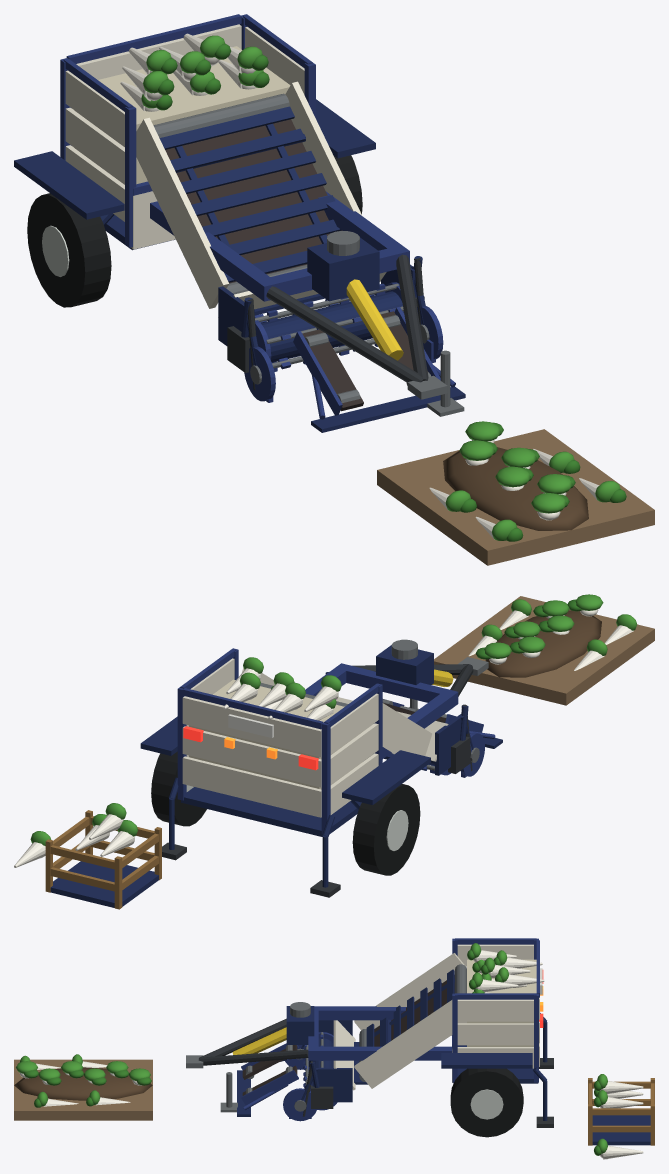
Rendered from daikon_harvester.glb.
The picture shows the model from 3 angles, top to bottom: view 1: azimuth 30°, elevation 25°; view 2: azimuth 150°, elevation 25°; view 3: azimuth 270°, elevation 25°; orthographic projection. The views are drawn at different scales.
Visible parts, largest first — view 1: DaikonBody, DaikonProps, DaikonPickup; view 2: DaikonBody, DaikonProps; view 3: DaikonBody, DaikonProps, DaikonPickup.
Boxes of the visible parts, x1,y1,x2,y2 form: DaikonBody: [14, 14, 465, 432]; DaikonProps: [377, 421, 654, 565]; DaikonPickup: [254, 282, 404, 371]; DaikonBody: [140, 639, 502, 897]; DaikonProps: [14, 594, 654, 909]; DaikonBody: [186, 938, 553, 1137]; DaikonProps: [14, 1054, 654, 1159]; DaikonPickup: [303, 1032, 337, 1110].
Size of the model in its own units: 3.11 by 1.73 by 7.38.
